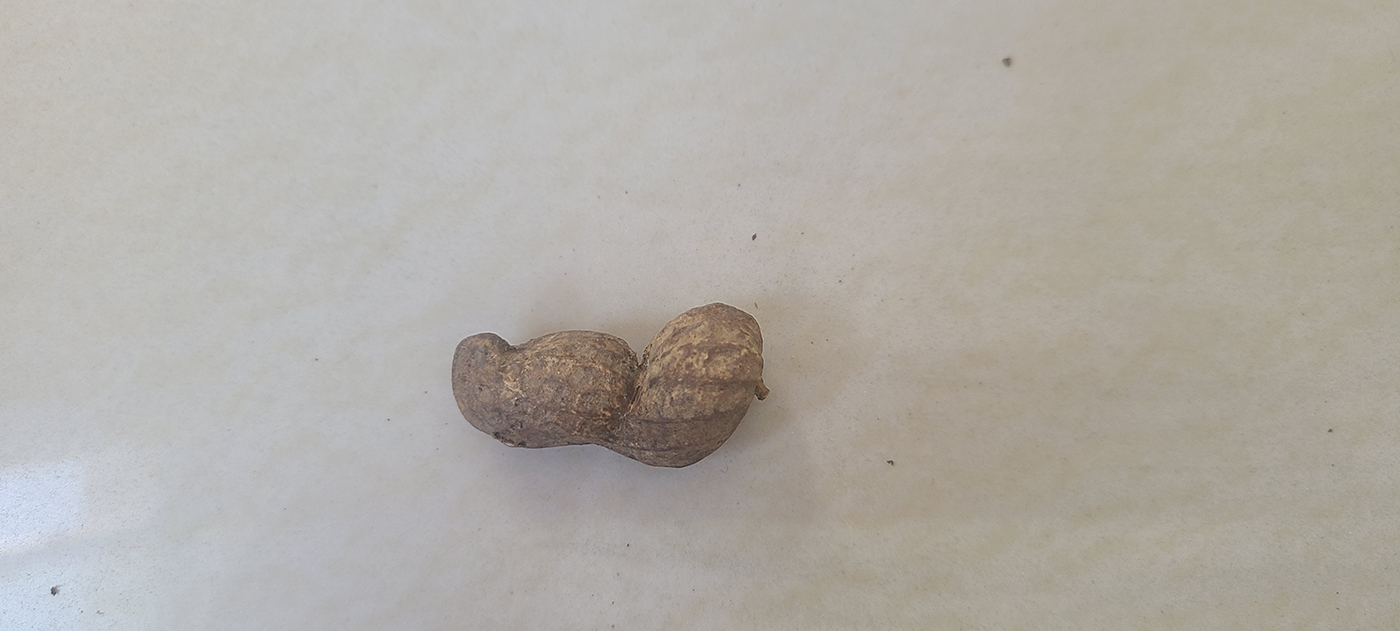l: (447, 305, 769, 466)
